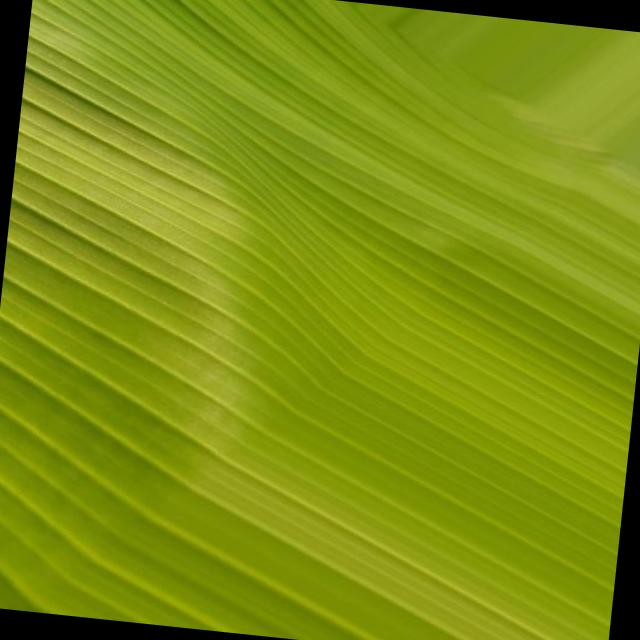Banana_Healthy: (14, 12, 640, 618)
